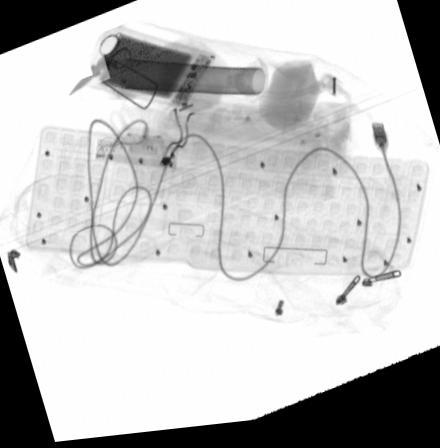Powerbank: (88, 26, 218, 114)
Scissors: (65, 34, 136, 101)
